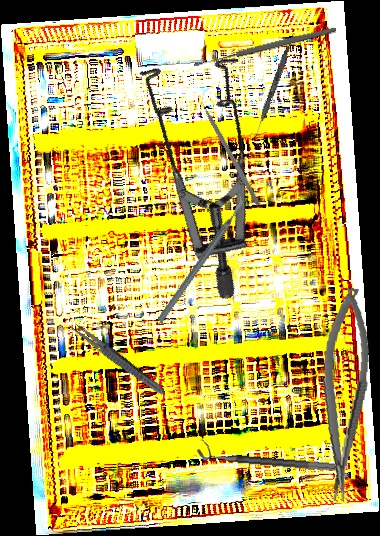Chopper: (123, 191, 278, 324), (195, 90, 267, 207)
Dressing Forceps: (66, 319, 168, 398)
Fixation Ring: (196, 438, 337, 473)
Needle Holder: (308, 286, 379, 503)
Spatula Surgical: (252, 31, 296, 142)
Speculum: (68, 25, 321, 304)
Surgical Spoon: (193, 25, 337, 69)
